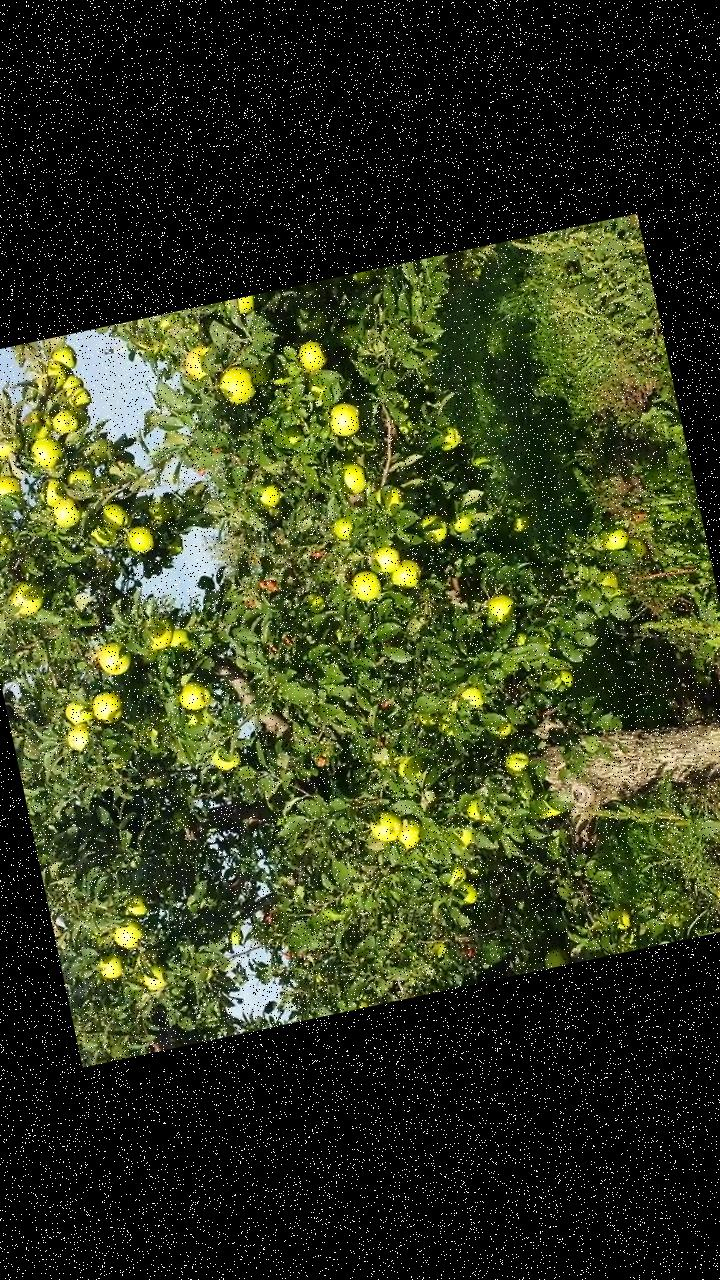Apple: (6, 576, 48, 618), (217, 364, 257, 406), (326, 399, 364, 436), (26, 434, 65, 470), (18, 406, 54, 444), (96, 640, 132, 678), (138, 612, 174, 650), (90, 686, 124, 726), (368, 808, 404, 842), (181, 346, 213, 384), (334, 457, 366, 495), (374, 481, 408, 516), (388, 556, 424, 589), (420, 510, 452, 546), (176, 680, 212, 711), (109, 917, 144, 948), (145, 492, 176, 526), (350, 568, 381, 602), (394, 815, 424, 850), (297, 338, 327, 373), (96, 946, 126, 980), (38, 476, 70, 507), (54, 372, 86, 403), (371, 544, 402, 576), (50, 496, 80, 529), (395, 752, 425, 784), (486, 594, 516, 626), (99, 500, 129, 531), (247, 358, 277, 389), (140, 962, 172, 990), (128, 523, 156, 555), (464, 795, 492, 827), (64, 696, 93, 726), (0, 430, 26, 463), (120, 891, 149, 920), (251, 482, 281, 510), (80, 438, 112, 464), (48, 342, 76, 371), (181, 702, 211, 729), (209, 744, 239, 770), (65, 723, 90, 754), (439, 859, 466, 887), (44, 359, 70, 387), (591, 568, 619, 594), (133, 946, 163, 970), (600, 527, 631, 550), (51, 408, 78, 434), (459, 683, 485, 710), (88, 522, 116, 547), (436, 423, 461, 449), (302, 590, 326, 617), (65, 384, 91, 408), (502, 750, 528, 774), (224, 294, 255, 314), (0, 472, 23, 498), (332, 516, 356, 540), (624, 534, 648, 558), (455, 880, 478, 905), (542, 946, 568, 968), (66, 467, 93, 488), (166, 628, 188, 652), (510, 512, 532, 532), (452, 514, 474, 533), (538, 801, 560, 820), (489, 722, 512, 740), (457, 822, 474, 846), (351, 270, 375, 286), (611, 908, 630, 928), (68, 404, 84, 426), (0, 526, 13, 553), (509, 630, 528, 646), (557, 668, 572, 688), (435, 942, 450, 958), (472, 456, 490, 466)
